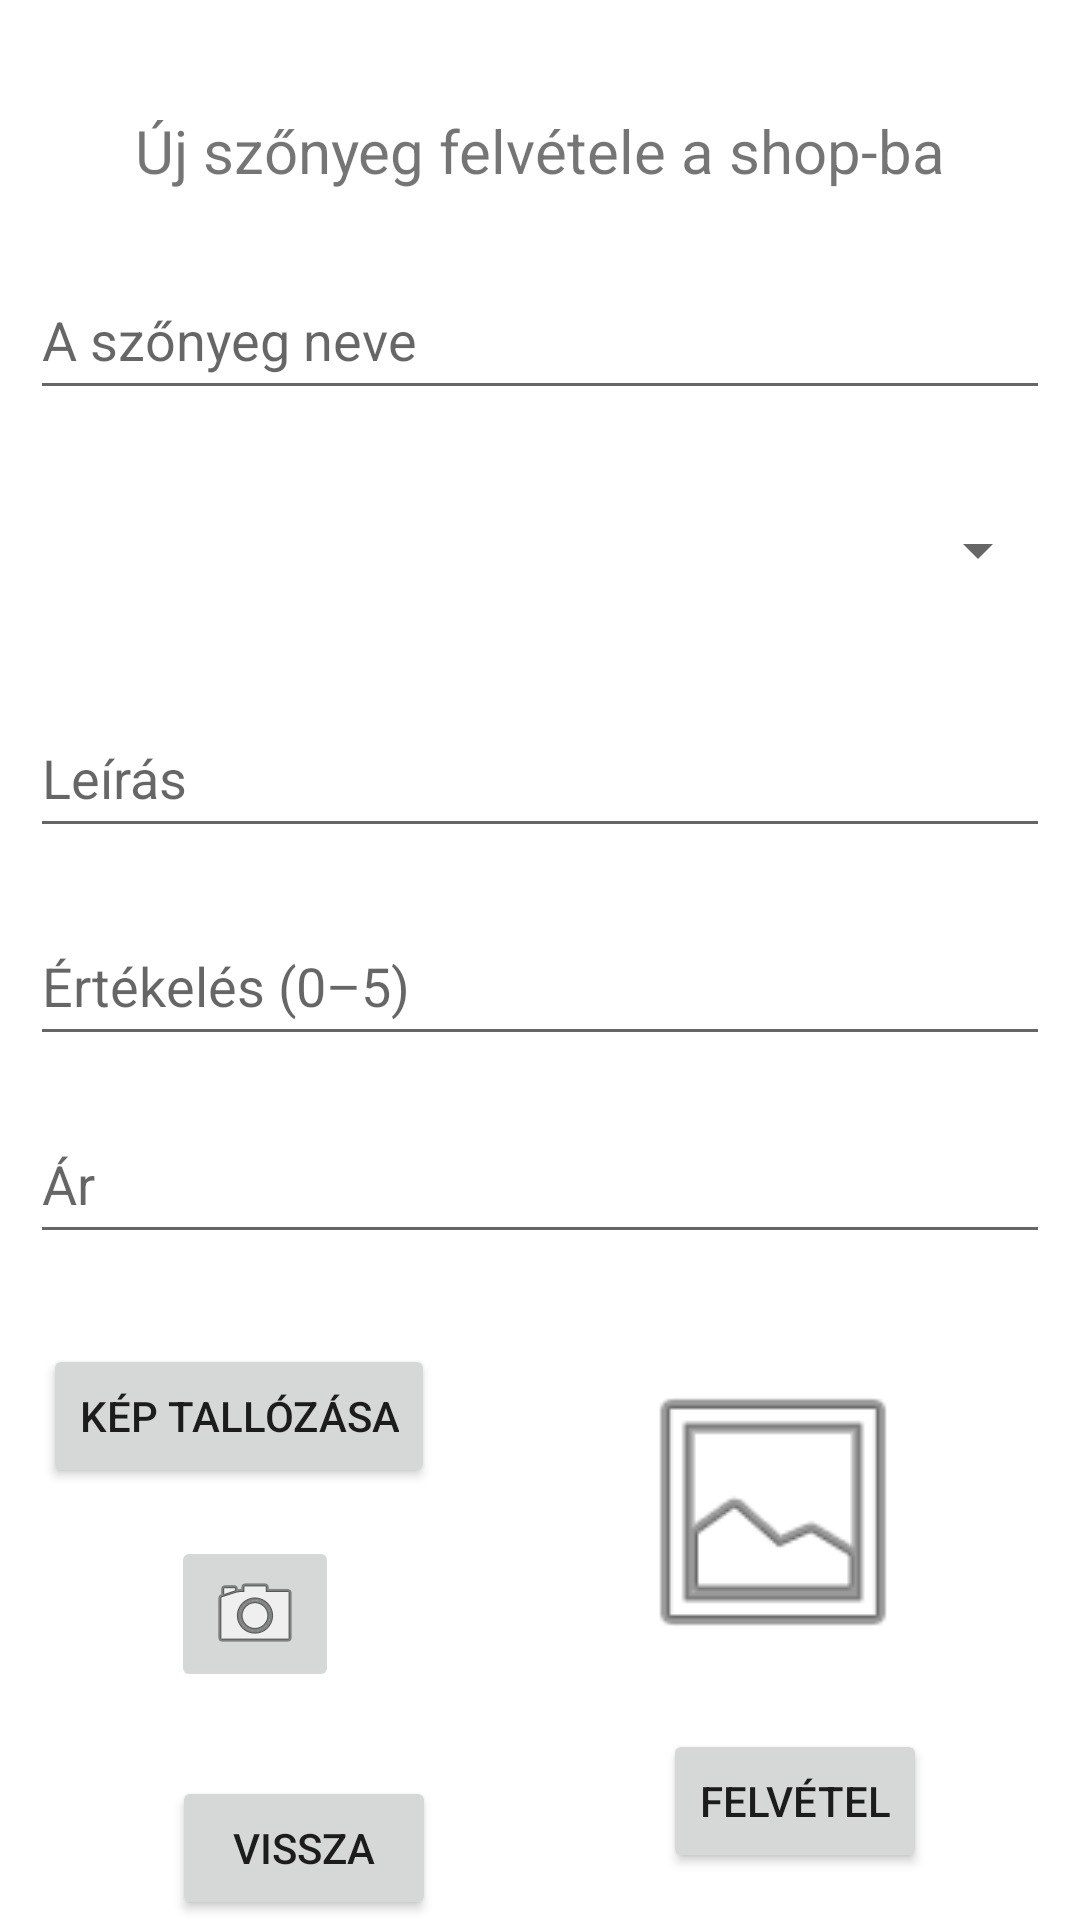

Icons on this 1080 × 1920 Android screen, each with the point to tap as (x,y):
Fotó: (255,1614)
gallery: (773,1512)
